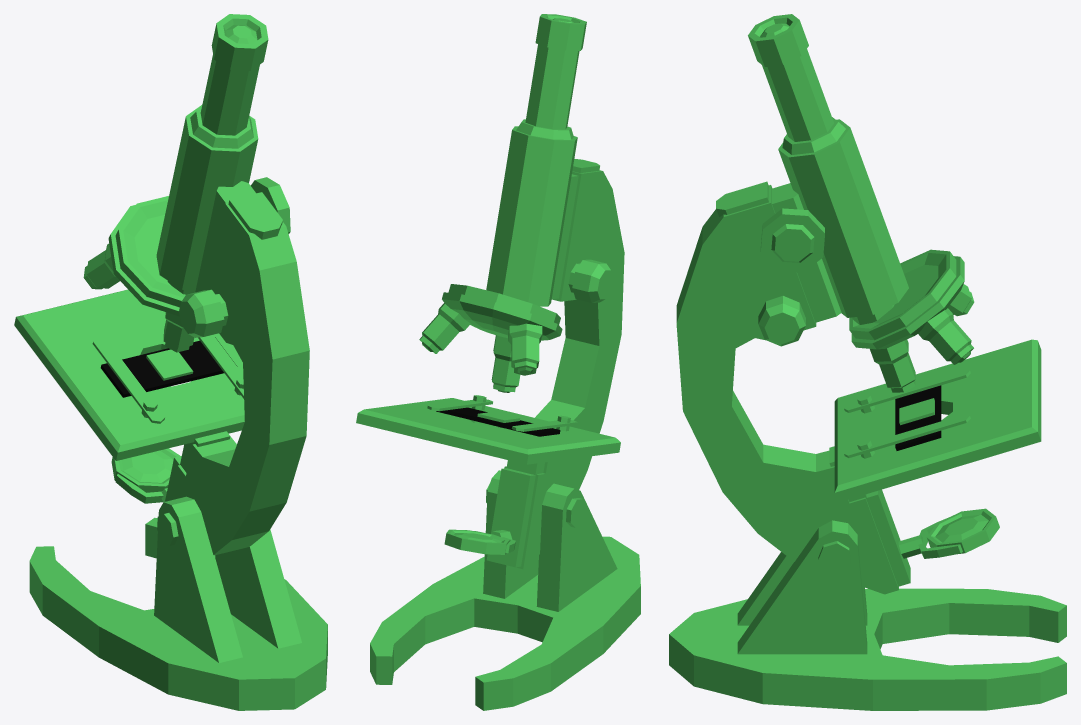
Rendered from Ph_microscope.fbx.
3 views of the same model, side by side, from view 1: azimuth 30°, elevation 25°; view 2: azimuth 150°, elevation 25°; view 3: azimuth 270°, elevation 25° (orthographic). The views are drawn at different scales.
Visible parts, largest first — view 1: Symmetry_10; view 2: Symmetry_10; view 3: Symmetry_10.
Part boxes in pixels (bbox=[...]): Symmetry_10: bbox=[14, 14, 327, 710]; Symmetry_10: bbox=[356, 14, 640, 710]; Symmetry_10: bbox=[669, 14, 1066, 710].
Bounding box in the file's own units: 14.4 × 47.36 × 26.45.
